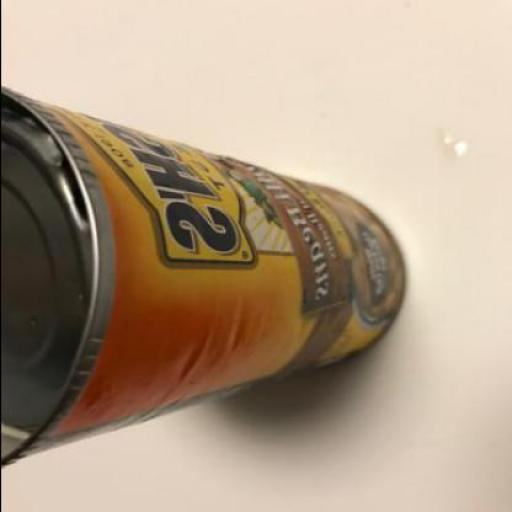metal: (1, 83, 404, 470)
